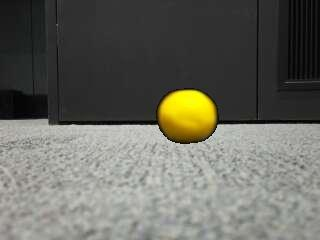lemon: (157, 91, 216, 144)
